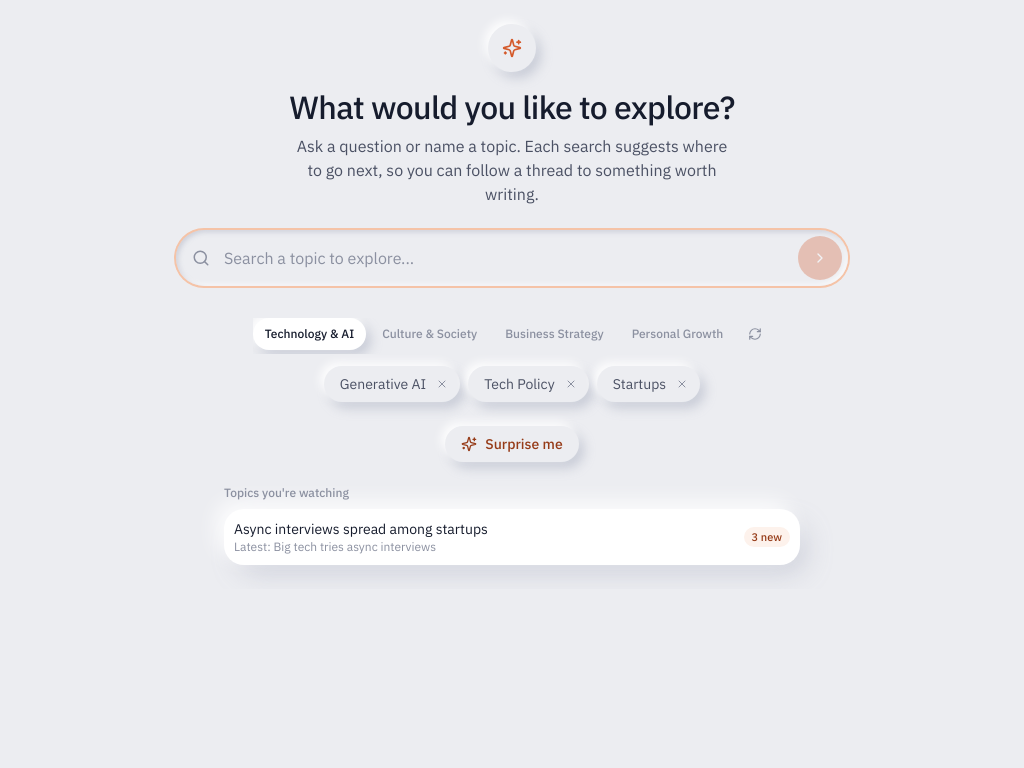
Scenario: ExploreWorkspace › shows saved topics with what is new, and opens one as a search
Expected: the text "3 new" is shown, [744,526,790,547]
Expected: the text "Latest: Big tech tries async interviews" is shown, [234,539,436,554]
Click the button "Async interviews spread among startups" at (361, 529), box [224,509,800,565]
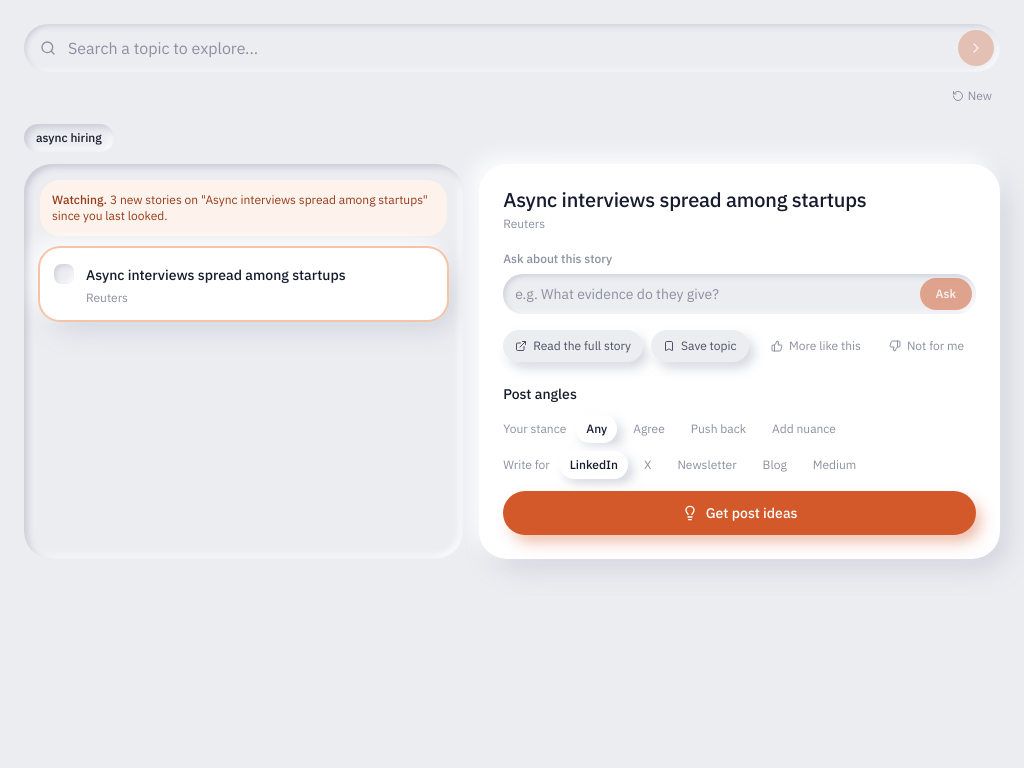
Expected: the element named "Story details" is shown, [479,164,1000,559]
Expected: the text "3 new stories on \"Async interviews spread among startups\" since you last looked" is shown, [52,192,428,223]
